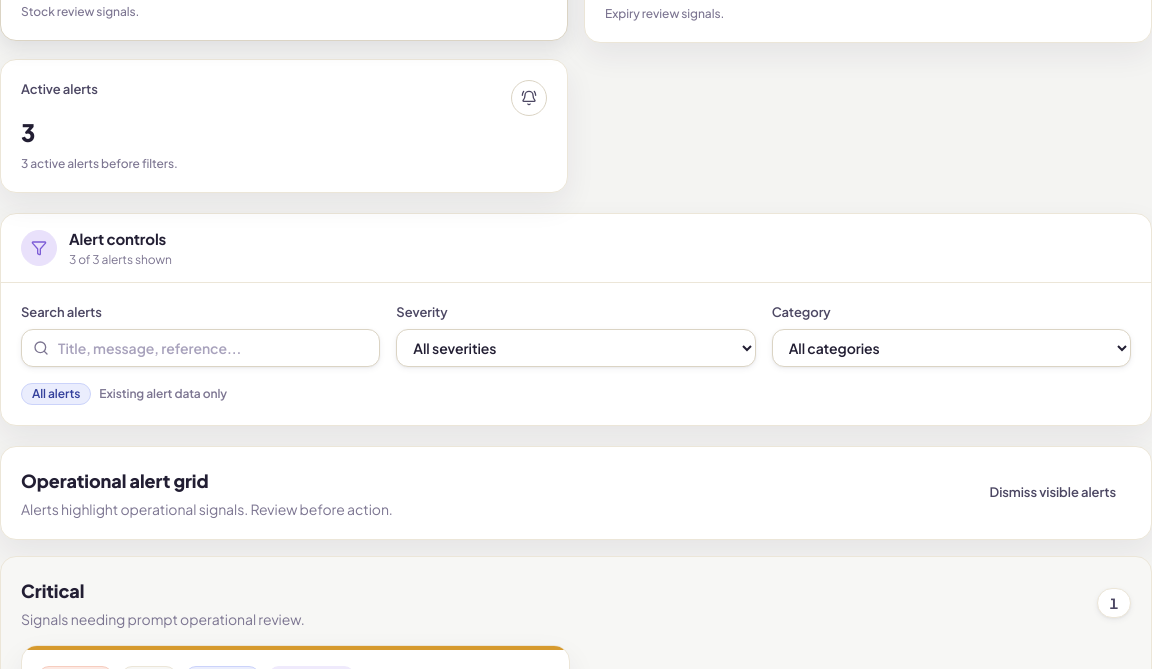
it: AlertsScreen › filters alerts by search, severity, and category without refetching
(page scrolled)
Type "Ibuprofen" into the search field labelled "Search alerts" at (201, 348), box [21,329,380,367]
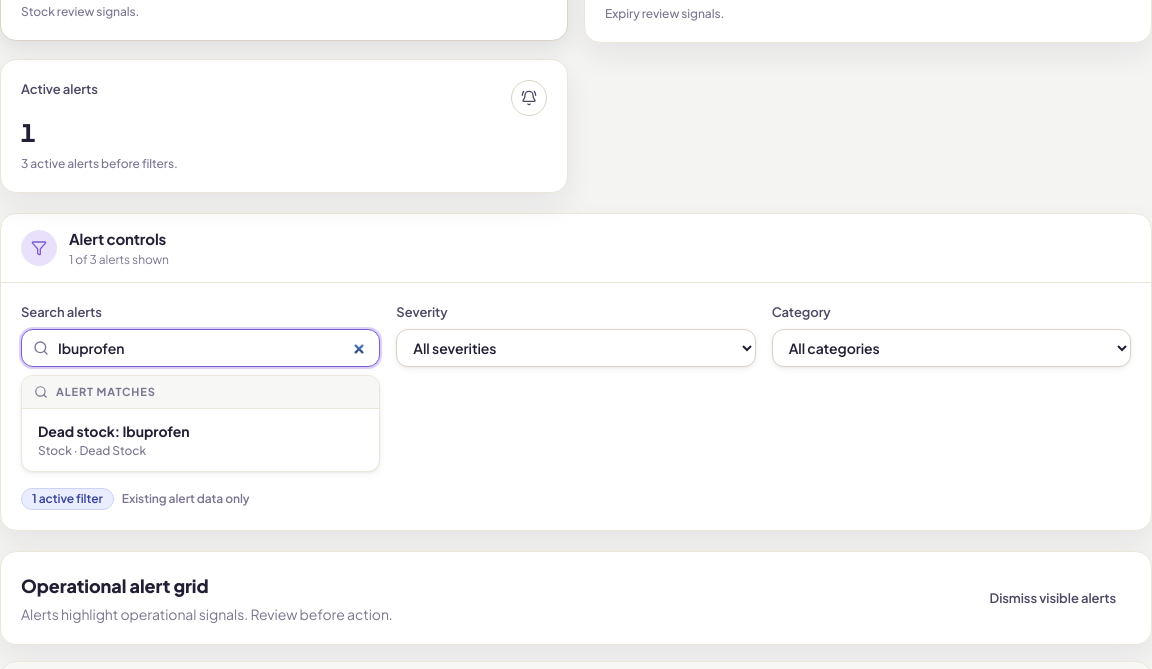
Expected: the text "Prepared cycle awaiting stock deduction" is not shown
Expected: the text "Alert matches" is shown, [22,376,379,409]
Expected: the text "Dead stock: Ibuprofen" is shown, [38,421,189,441]
Clear the search field labelled "Search alerts" at (201, 348), box [21,329,380,367]
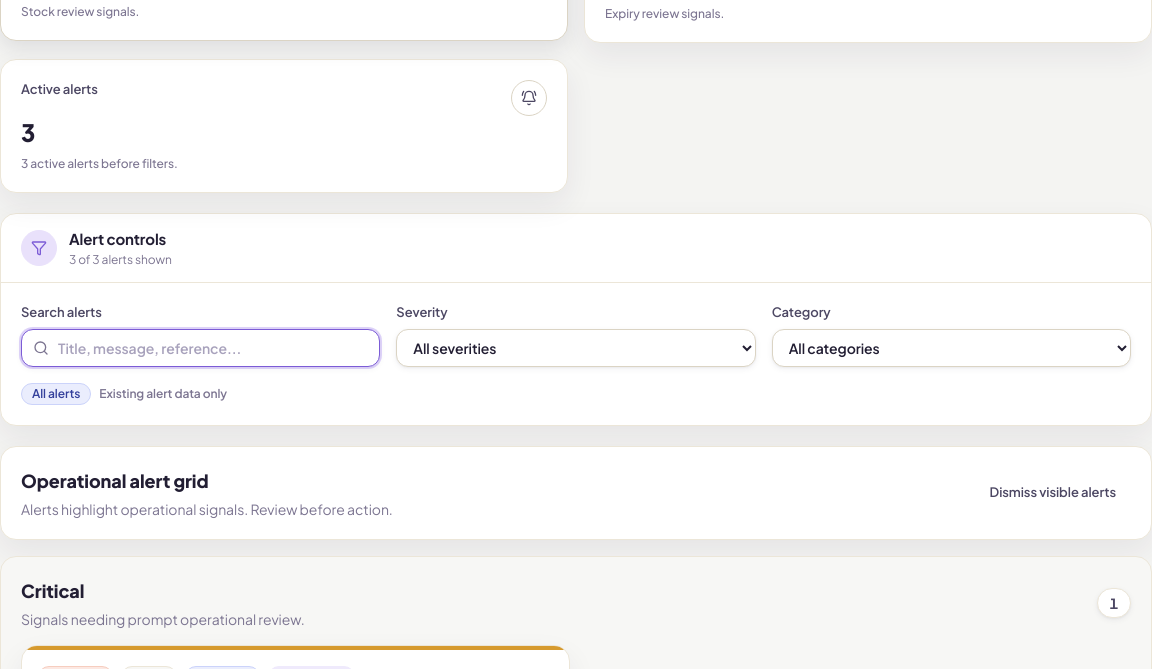
Select "Warning" in the dropdown labelled "Severity" at (576, 348), box [396,329,756,367]
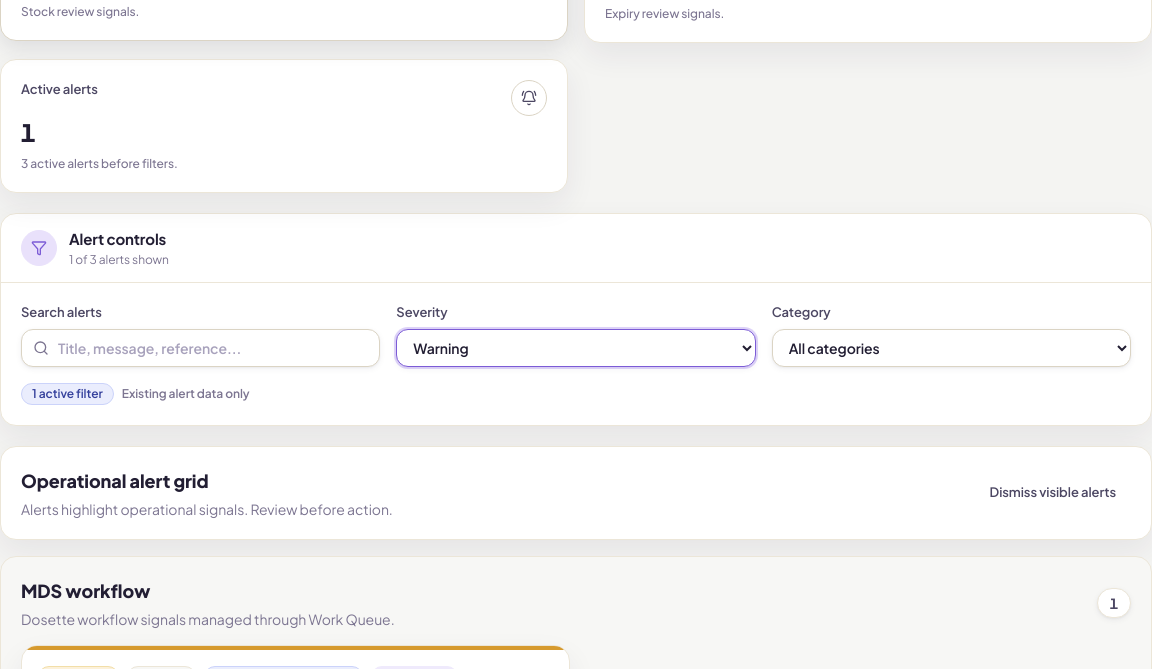
Select "Stock" in the dropdown labelled "Category" at (951, 348), box [772,329,1131,367]
(page scrolled)
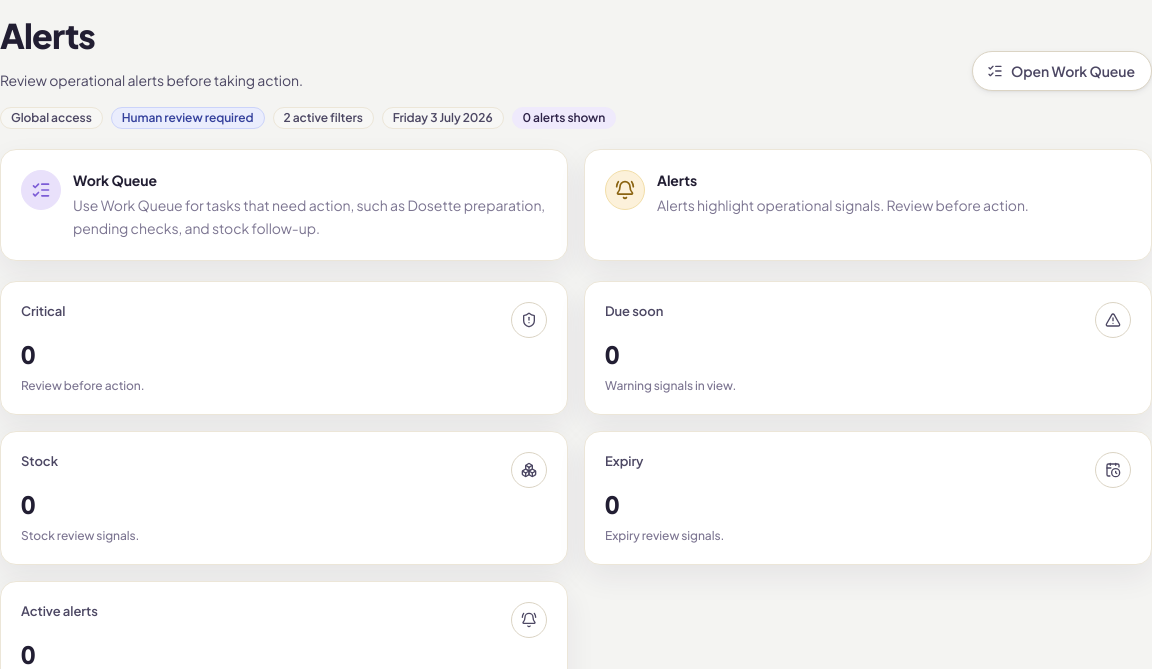
Expected: the text "2 active filters" is shown, [272,107,374,129]
